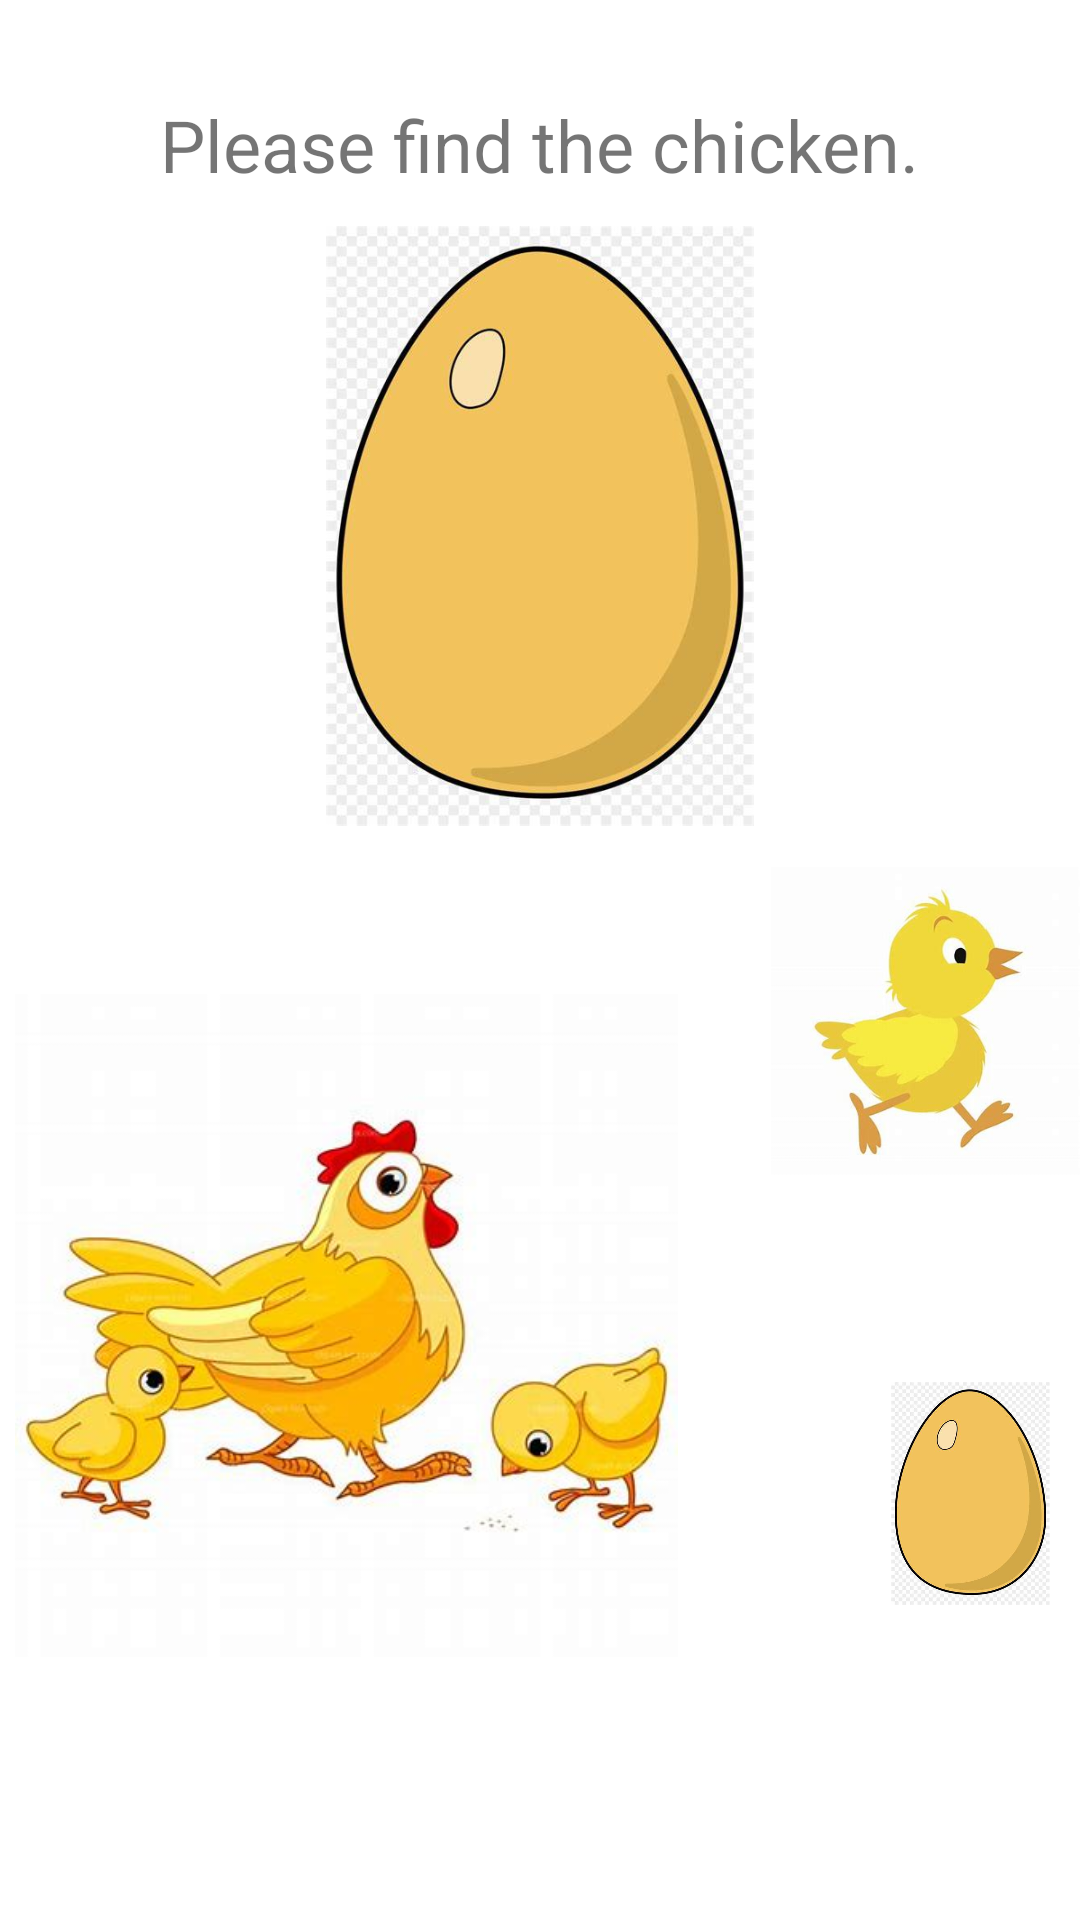

Screen size 1080*1920. Icon name, then its box in pixels as (x1, y1, x2, y2):
chick: (813, 889, 1024, 1155)
